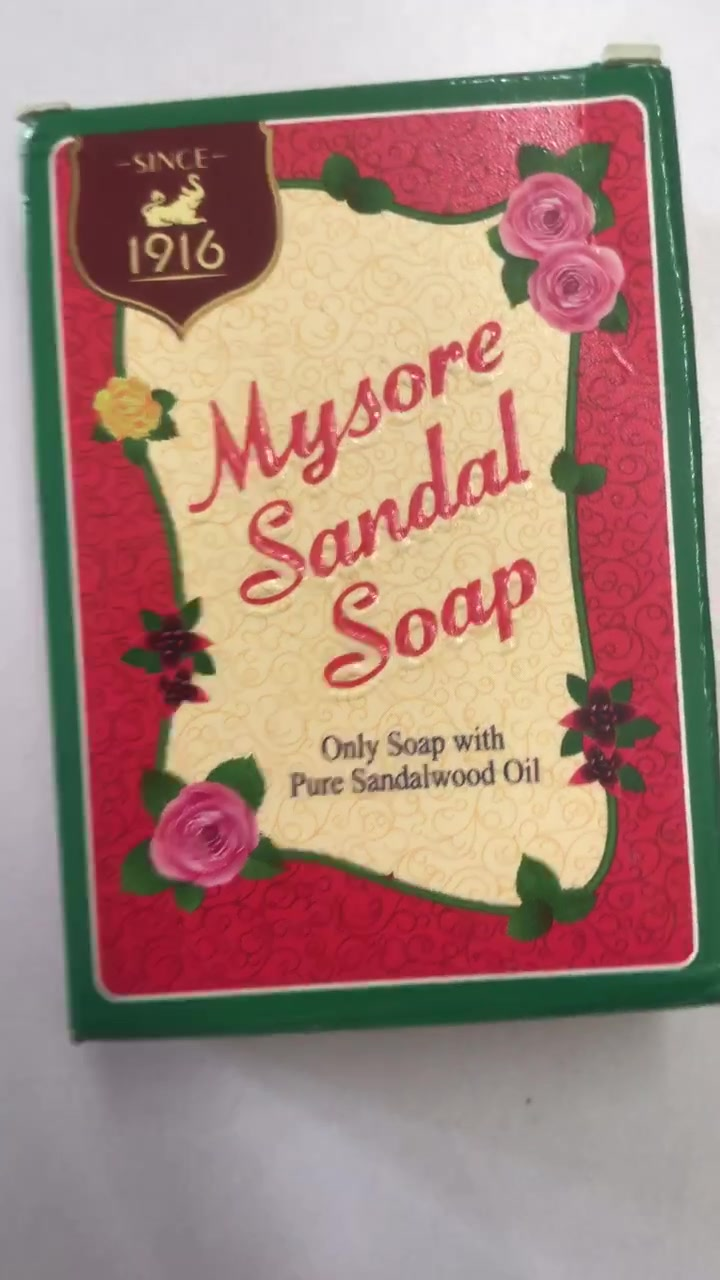mysore sandal soap: (37, 114, 713, 1018)
